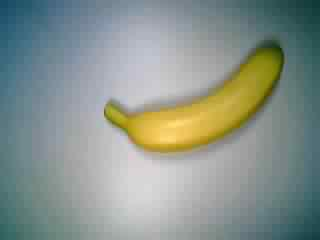banana: (101, 40, 291, 155)
